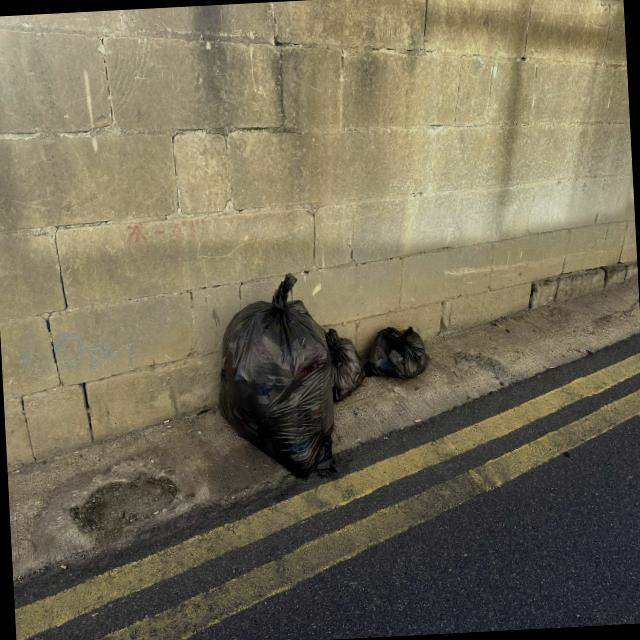black_bag: (212, 269, 339, 480), (360, 319, 437, 383), (324, 324, 368, 401)
